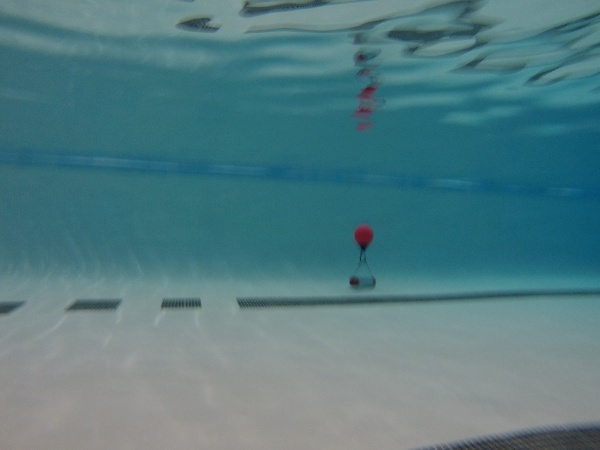buoy_red: (353, 224, 374, 250)
